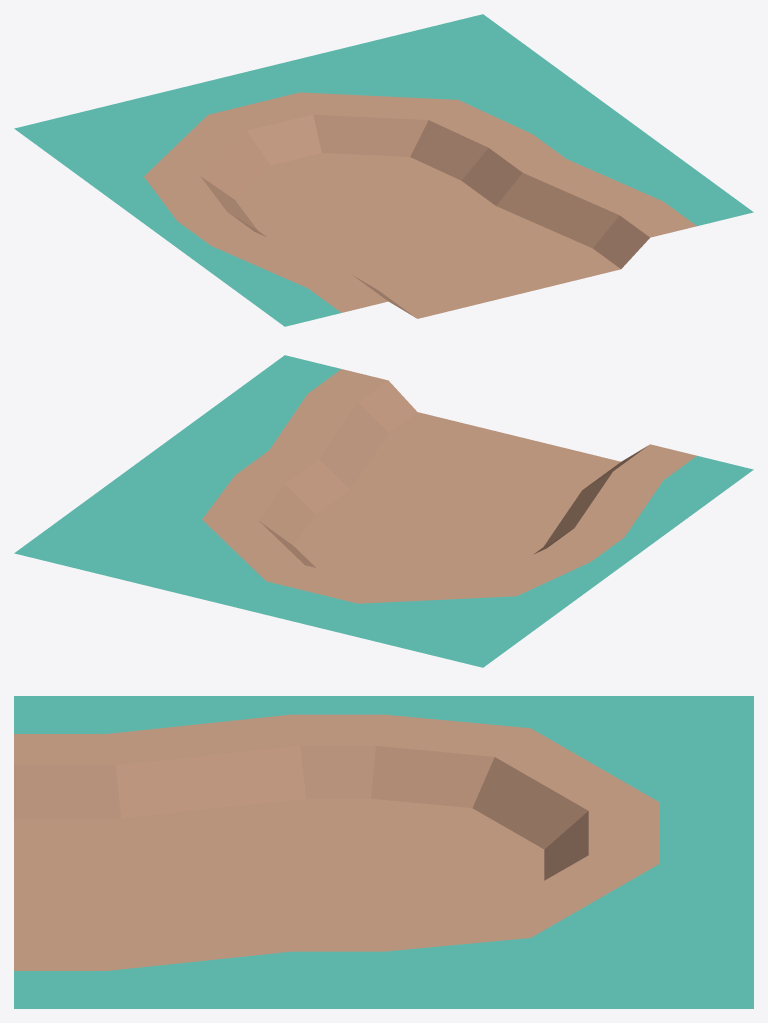
The model's file is ground_pathEndClosed.glb.
3 views of the same model, one above another, from view 1: azimuth 30°, elevation 25°; view 2: azimuth 150°, elevation 25°; view 3: azimuth 270°, elevation 25° (orthographic). The views are drawn at different scales.
Parts seen in each view (by area): view 1: ground_pathEndClosed; view 2: ground_pathEndClosed; view 3: ground_pathEndClosed.
Part boxes in pixels (box(x1,y1,x2,y2)): ground_pathEndClosed: box(14, 14, 753, 326); ground_pathEndClosed: box(14, 355, 753, 667); ground_pathEndClosed: box(14, 696, 753, 1008).
Size of the model in its own units: 1 by 0.05 by 1.
